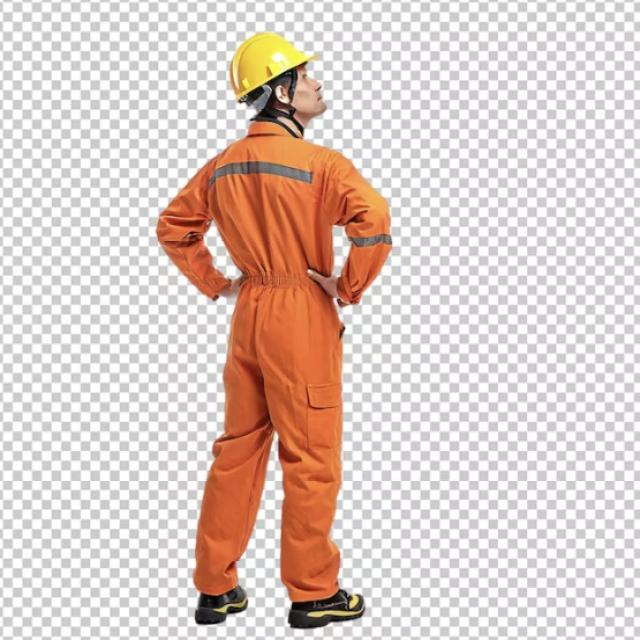boots: (279, 548, 380, 632), (174, 556, 257, 628)
helmet: (178, 13, 357, 131)
no-gloves: (299, 252, 368, 314), (205, 272, 259, 316)
person: (112, 21, 459, 638)
vest: (144, 128, 412, 596)
